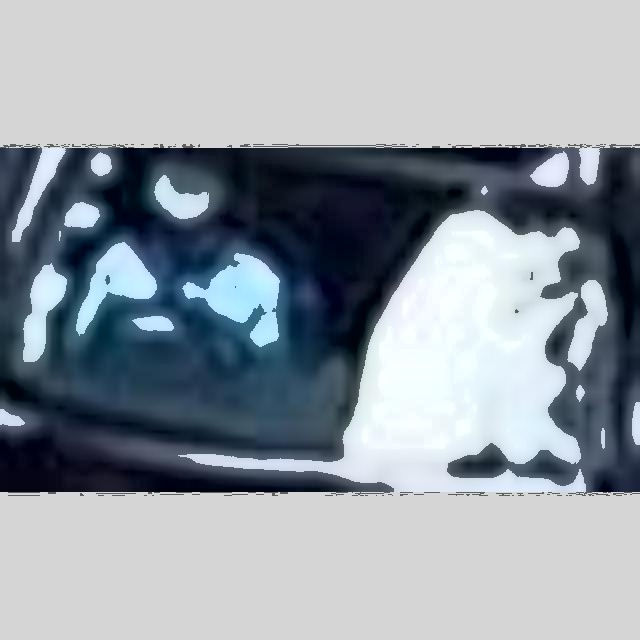pakai: (96, 204, 296, 396)
